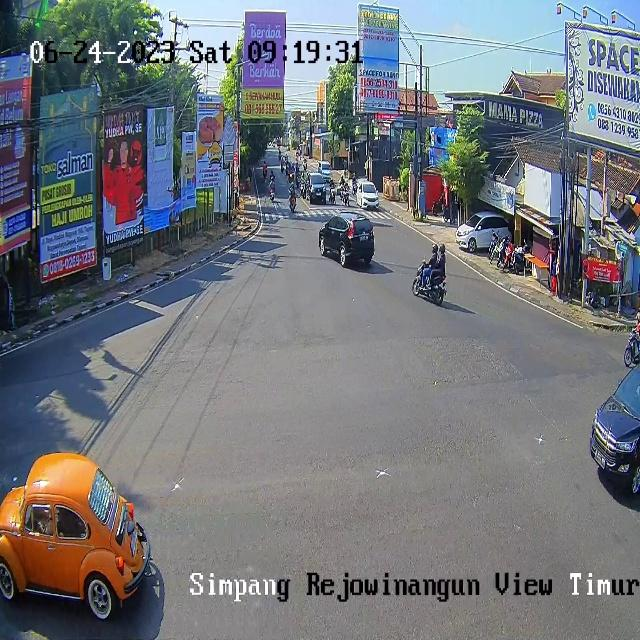bus: (412, 259, 446, 306), (624, 327, 640, 367), (343, 186, 350, 206), (289, 195, 296, 212), (330, 186, 336, 202), (269, 188, 275, 202), (300, 180, 306, 194), (288, 171, 294, 181), (353, 180, 357, 191)
motorcycle: (0, 452, 149, 625), (589, 361, 640, 498), (319, 212, 374, 268), (456, 211, 513, 253), (356, 181, 379, 210), (306, 173, 326, 204), (319, 160, 333, 180)
